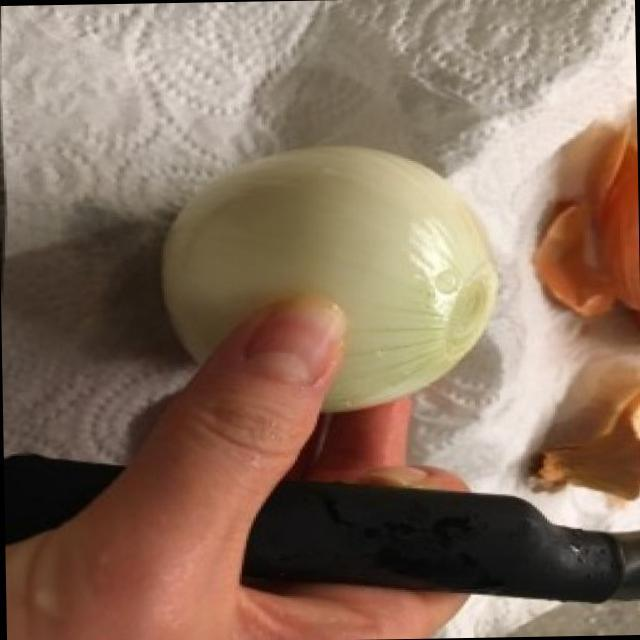Onion: (162, 149, 498, 413)
